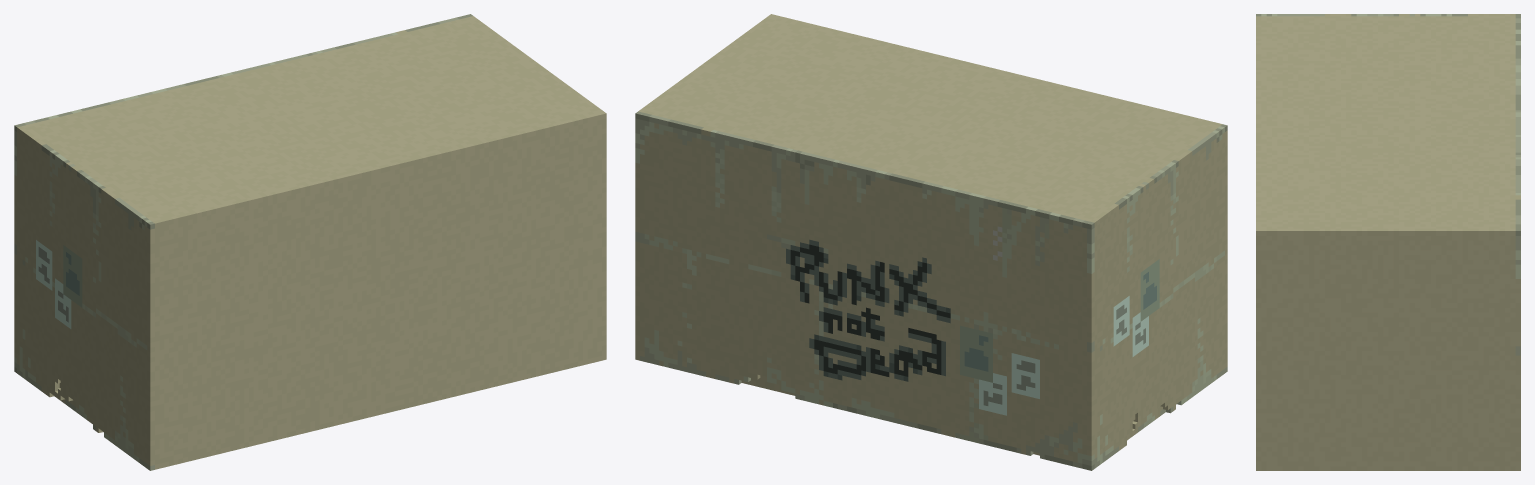
File: VoxelNuke-3-BuildingBlock-1.obj
The picture shows the model from 3 angles, left to right: view 1: azimuth 30°, elevation 25°; view 2: azimuth 150°, elevation 25°; view 3: azimuth 270°, elevation 25°; orthographic projection. The views are drawn at different scales.
Visible parts, largest first — view 1: BuildingBlock-1; view 2: BuildingBlock-1; view 3: BuildingBlock-1.
Boxes of the visible parts, x1,y1,x2,y2 form: BuildingBlock-1: [14, 14, 606, 470]; BuildingBlock-1: [635, 14, 1227, 470]; BuildingBlock-1: [1256, 14, 1520, 470].
Size of the model in its own units: 1.94 by 1 by 1.
Materials: 1 (1 with a texture image).
